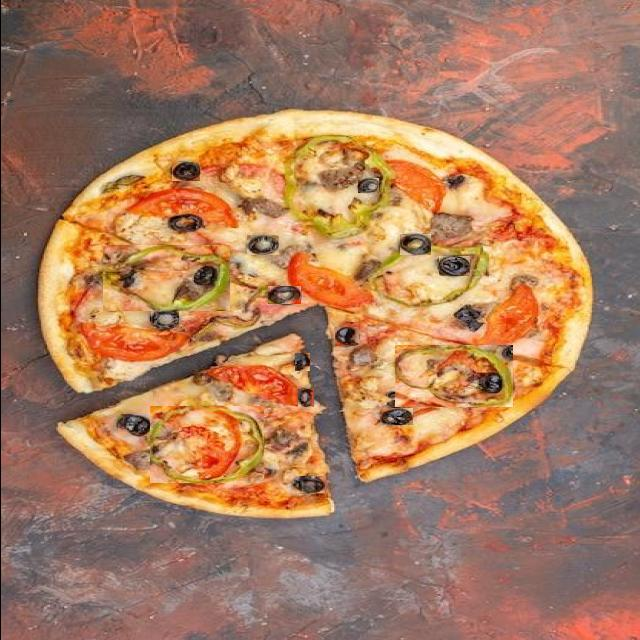olive: (452, 304, 484, 332), (117, 414, 149, 436), (399, 234, 430, 255), (246, 235, 278, 255), (438, 256, 469, 276), (168, 214, 202, 232), (267, 286, 300, 304), (292, 476, 325, 493), (379, 408, 412, 425), (150, 309, 178, 328), (171, 162, 199, 181), (403, 358, 425, 379), (334, 327, 358, 346), (117, 266, 139, 286), (357, 178, 378, 193), (297, 389, 313, 407), (294, 353, 309, 371), (386, 392, 404, 407)
pepperoni: (284, 135, 396, 238), (149, 406, 263, 483), (102, 245, 229, 311), (371, 244, 489, 307), (394, 345, 512, 407)
pizza: (36, 111, 592, 482), (56, 333, 333, 519)
